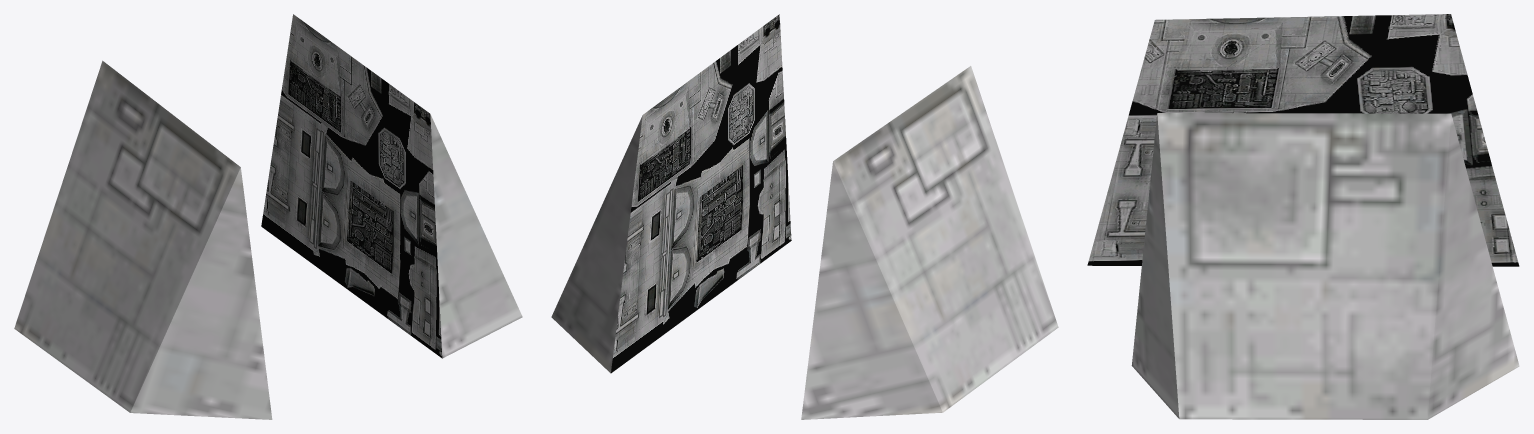
Rendered from star_destroyer_turret_med_base_l2.fbx.
The picture shows the model from 3 angles, left to right: view 1: azimuth 30°, elevation 25°; view 2: azimuth 150°, elevation 25°; view 3: azimuth 270°, elevation 25°; orthographic projection. The views are drawn at different scales.
Visible parts, largest first — view 1: mesh_node; view 2: mesh_node; view 3: mesh_node.
Boxes of the visible parts, <box> form: mesh_node: <box>14,14,522,419</box>; mesh_node: <box>551,14,1058,419</box>; mesh_node: <box>1087,14,1519,419</box>.
Bounding box in the file's own units: 10.78 × 6.21 × 9.6.
Materials: 1 (1 with a texture image).
